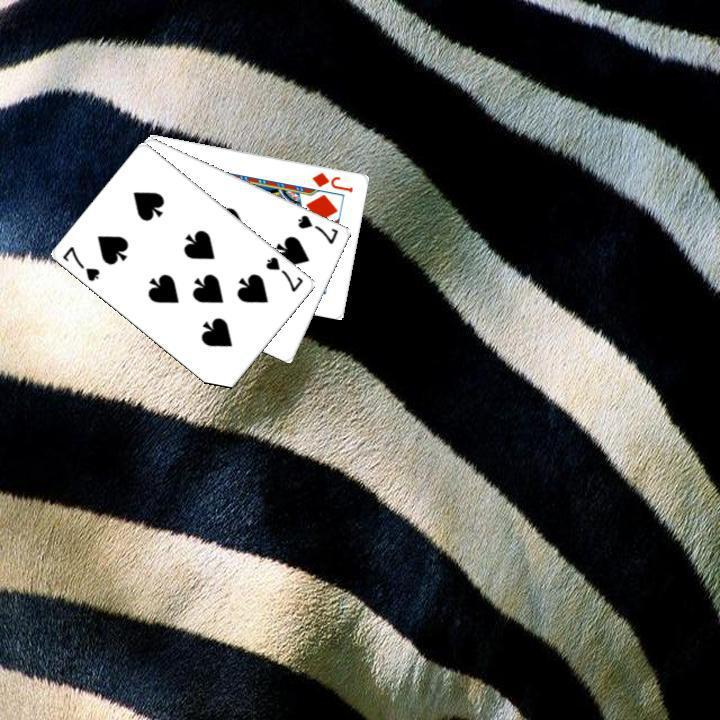7: (261, 252, 306, 294), (58, 242, 102, 284), (294, 210, 341, 246)
J: (308, 168, 355, 194)
